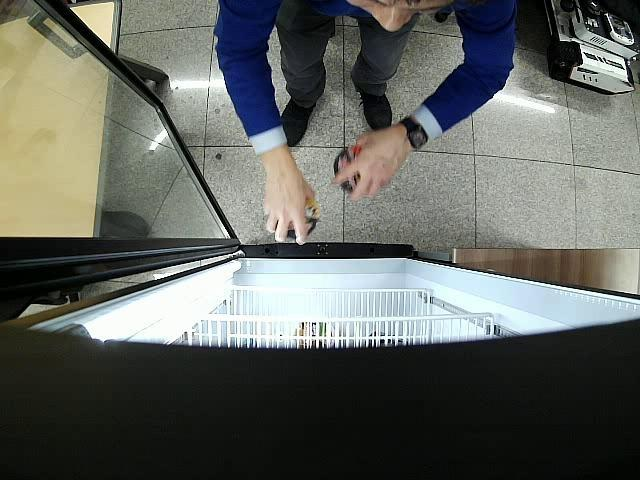08_buldak_S: (287, 198, 319, 238), (334, 146, 361, 193)
